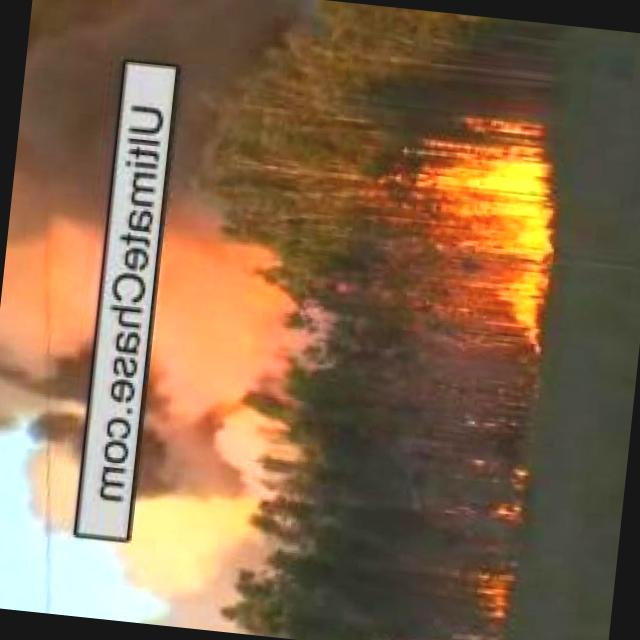fire: (411, 115, 563, 345), (465, 567, 517, 629), (487, 466, 529, 522)
